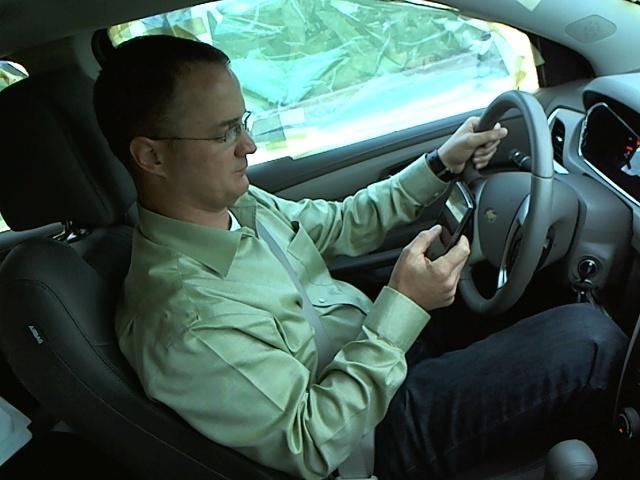PhoneUse: (430, 177, 483, 285)
